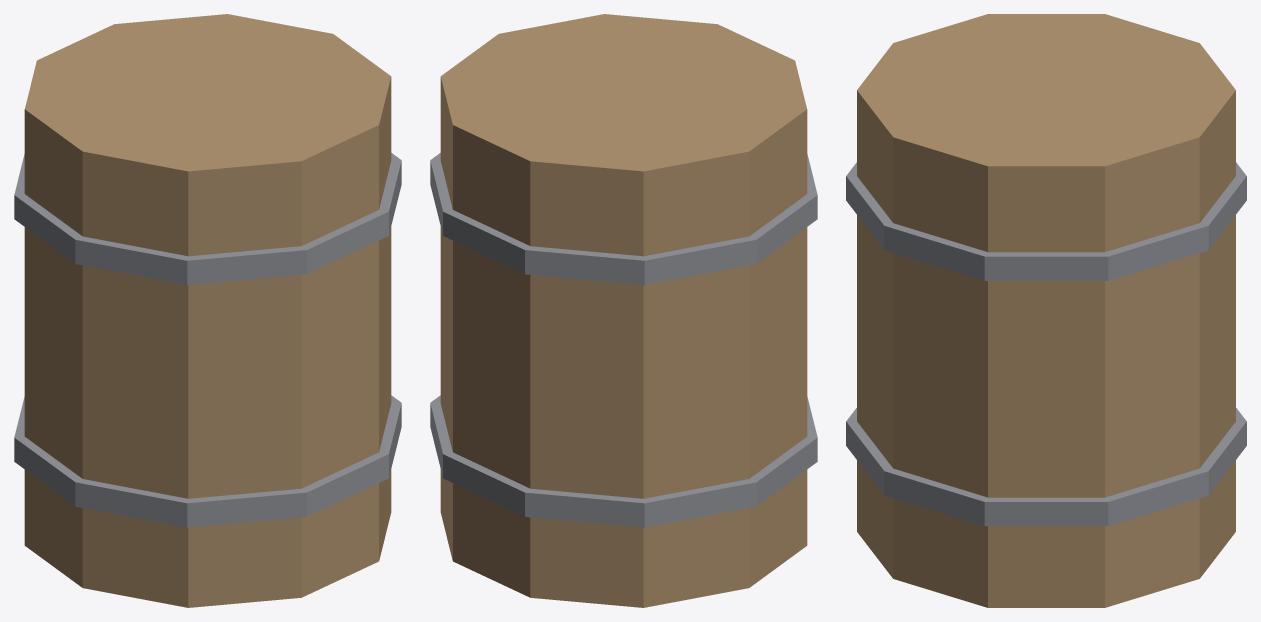
Rendered from sm_barrel.glb.
3 renders of one model, left to right at view 1: azimuth 30°, elevation 25°; view 2: azimuth 150°, elevation 25°; view 3: azimuth 270°, elevation 25°, orthographic.
Parts seen in each view (by area): view 1: sm_barrel; view 2: sm_barrel; view 3: sm_barrel.
Part boxes in pixels (box(x1,y1,x2,y2)): sm_barrel: box(14, 14, 401, 607); sm_barrel: box(430, 14, 817, 607); sm_barrel: box(846, 14, 1246, 607).
Size of the model in its own units: 0.7038 by 0.9 by 0.74.
